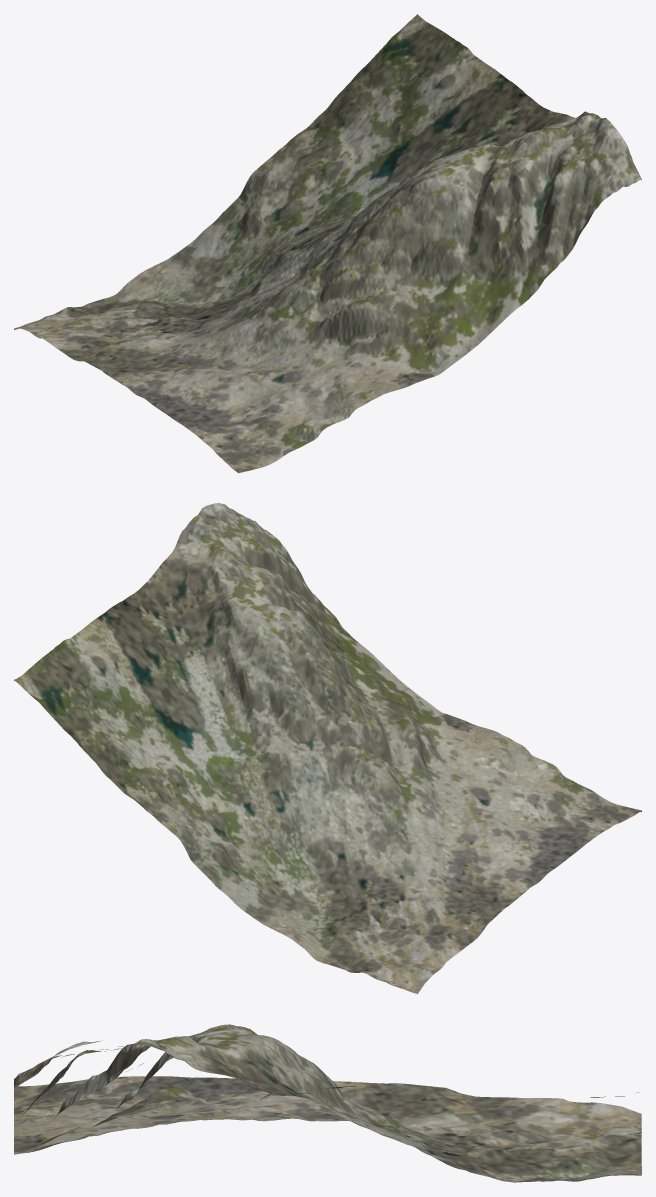
3 views of the same model, one above another, from view 1: azimuth 30°, elevation 25°; view 2: azimuth 150°, elevation 25°; view 3: azimuth 270°, elevation 25° (orthographic). The views are drawn at different scales.
Bounding box in the file's own units: 250 × 149 × 241.
Materials: 1 (1 with a texture image).
